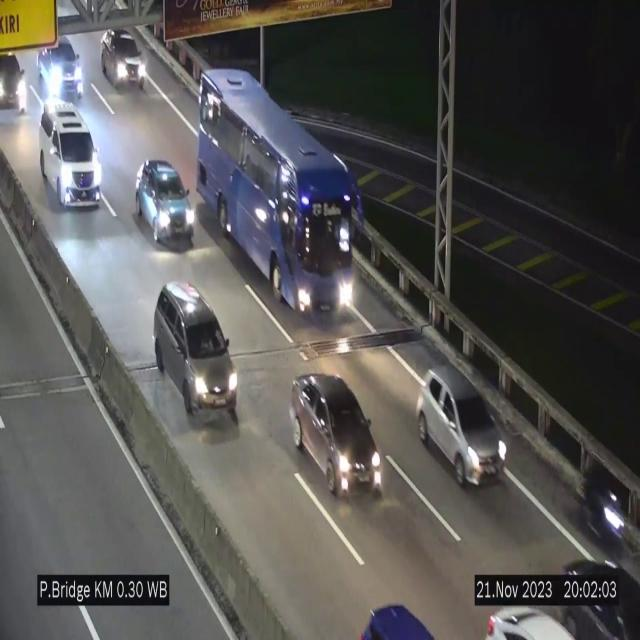Bus: (193, 66, 363, 320)
Car: (286, 368, 388, 504), (150, 278, 240, 421), (412, 358, 506, 488), (38, 97, 102, 217), (136, 159, 195, 245)
Motorcycle: (580, 452, 622, 554)
